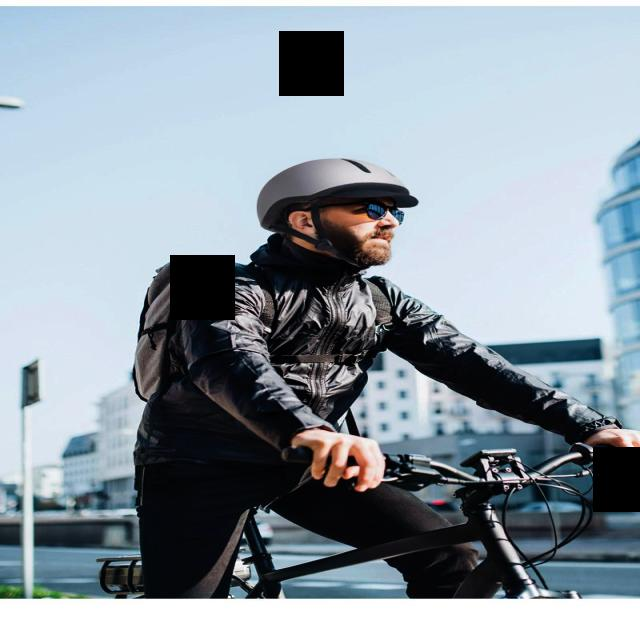Helmet: (256, 155, 422, 267)
